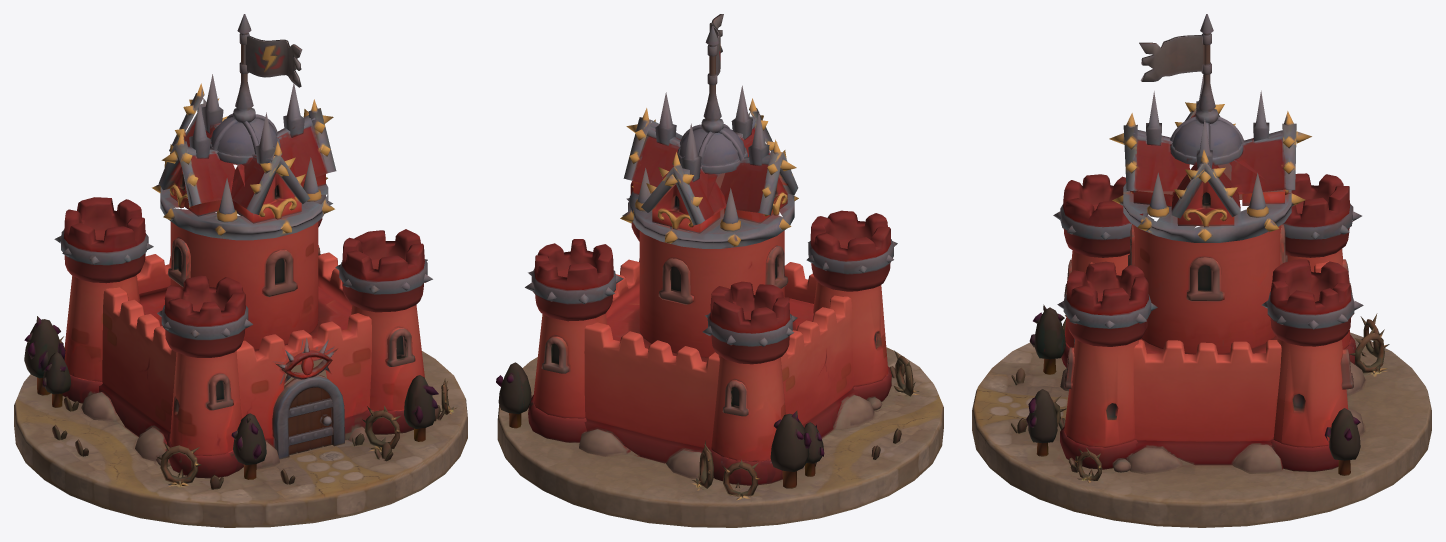
The model's file is La Forteresse Rouge  Boss (Faction Ennemie).glb.
3 renders of one model, left to right at view 1: azimuth 30°, elevation 25°; view 2: azimuth 150°, elevation 25°; view 3: azimuth 270°, elevation 25°, orthographic. The views are drawn at different scales.
Visible parts, largest first — view 1: tripo_53230ac8_74c9_4082_892a_f41eebf1ba4d; view 2: tripo_53230ac8_74c9_4082_892a_f41eebf1ba4d; view 3: tripo_53230ac8_74c9_4082_892a_f41eebf1ba4d.
Boxes of the visible parts, x1,y1,x2,y2 form: tripo_53230ac8_74c9_4082_892a_f41eebf1ba4d: (14,14,467,527); tripo_53230ac8_74c9_4082_892a_f41eebf1ba4d: (496,14,943,527); tripo_53230ac8_74c9_4082_892a_f41eebf1ba4d: (972,14,1431,527).
Size of the model in its own units: 0.9927 by 0.9995 by 0.9927.
Materials: 1 (1 with a texture image).
